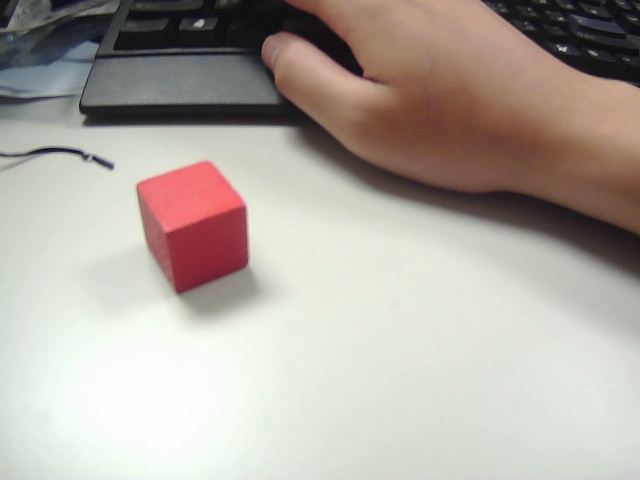redbox: (131, 159, 253, 300)
